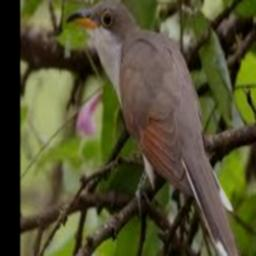Cuckoo: (66, 0, 242, 256)
